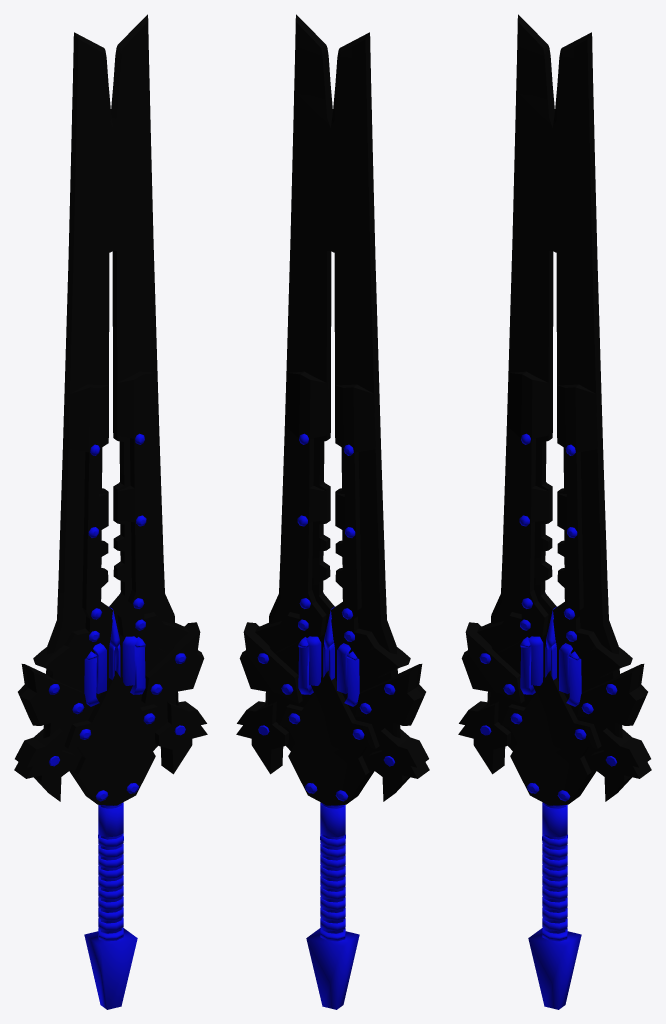
File: SM_CDG_SWORD.fbx
The picture shows the model from 3 angles, left to right: view 1: azimuth 30°, elevation 25°; view 2: azimuth 150°, elevation 25°; view 3: azimuth 330°, elevation 25°; orthographic projection.
Visible parts, largest first — view 1: SM_CDG_SWORD; view 2: SM_CDG_SWORD; view 3: SM_CDG_SWORD.
Boxes of the visible parts, box(x1,y1,x2,y2) form: SM_CDG_SWORD: box(14, 14, 207, 1009); SM_CDG_SWORD: box(236, 14, 429, 1009); SM_CDG_SWORD: box(458, 14, 651, 1009).
Size of the model in its own units: 29.91 by 155 by 4.88.
